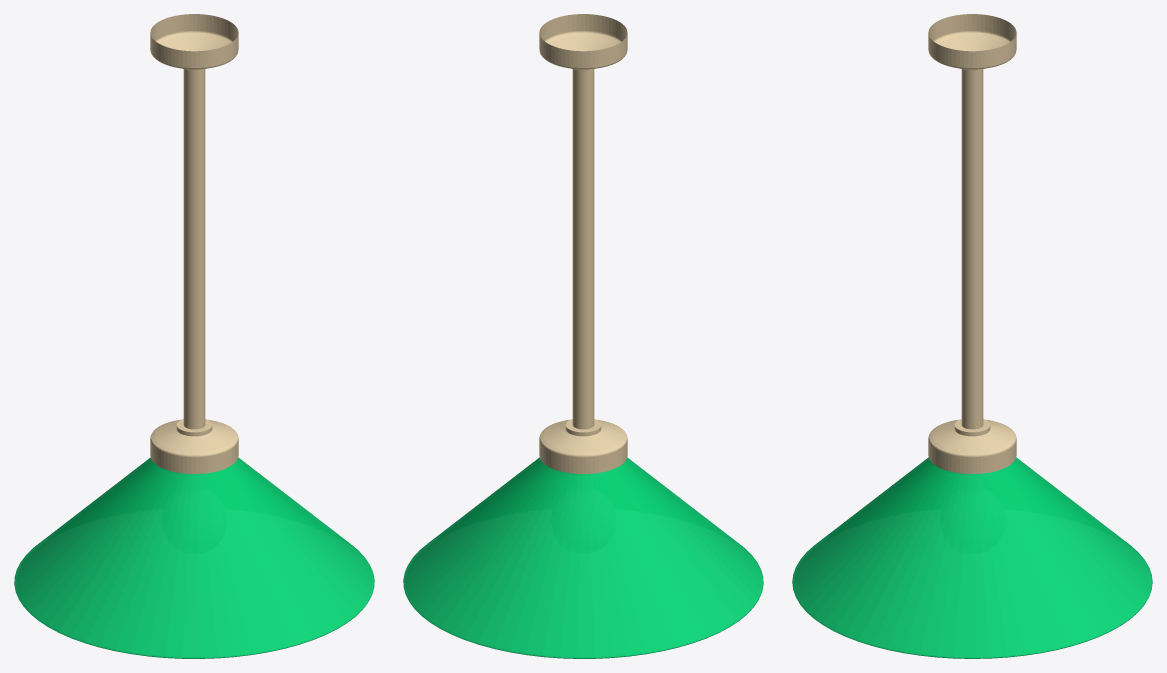
Rendered from sweethome3d-katorlegaz-hanging-light-39.glb.
The picture shows the model from 3 angles, left to right: view 1: azimuth 30°, elevation 25°; view 2: azimuth 150°, elevation 25°; view 3: azimuth 270°, elevation 25°; orthographic projection.
Parts seen in each view (by area): view 1: Circle_Circle_Shade, Circle_Circle_Brass; view 2: Circle_Circle_Shade, Circle_Circle_Brass; view 3: Circle_Circle_Shade, Circle_Circle_Brass.
Part boxes in pixels (<box>): Circle_Circle_Shade: <box>14,457,374,658</box>; Circle_Circle_Brass: <box>150,14,238,473</box>; Circle_Circle_Shade: <box>403,457,763,658</box>; Circle_Circle_Brass: <box>539,14,627,473</box>; Circle_Circle_Shade: <box>792,457,1152,658</box>; Circle_Circle_Brass: <box>928,14,1016,473</box>.
Size of the model in its own units: 3.93 by 6.63 by 3.93.
